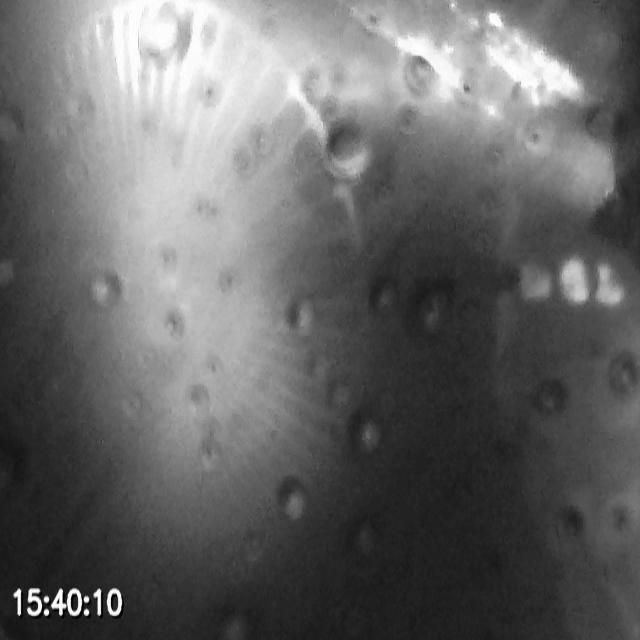white-dots: (516, 254, 629, 307)
